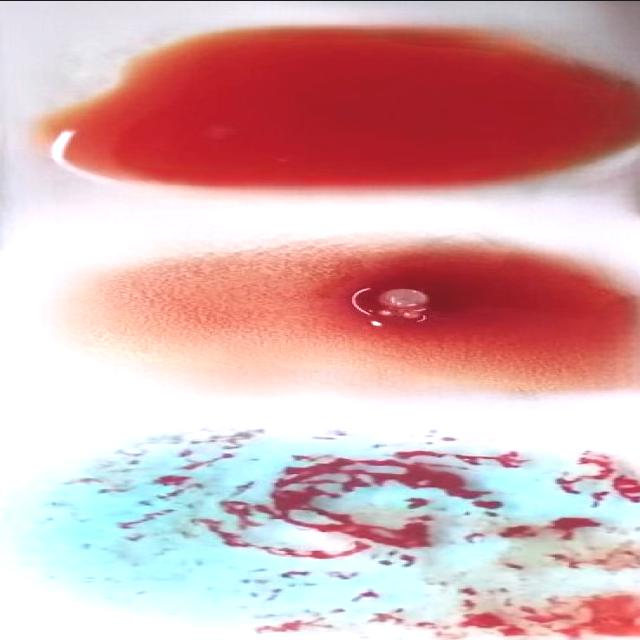A: (30, 434, 640, 632)
D: (63, 244, 640, 390)
